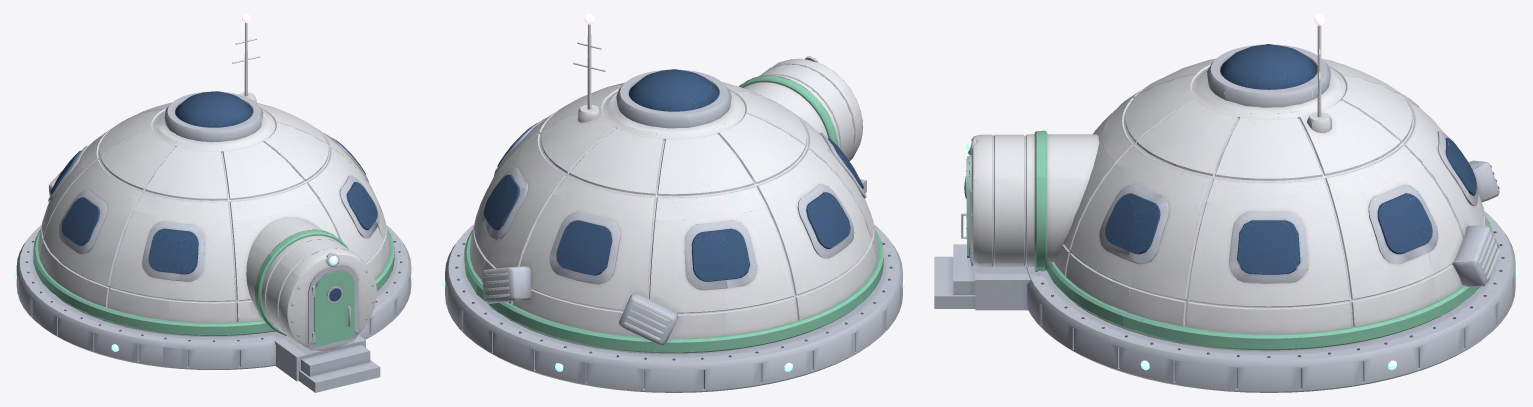
The model's file is cupula.glb.
3 renders of one model, left to right at view 1: azimuth 30°, elevation 25°; view 2: azimuth 150°, elevation 25°; view 3: azimuth 270°, elevation 25°, orthographic. The views are drawn at different scales.
Visible parts, largest first — view 1: habitat-dome_airlock_door; view 2: habitat-dome_airlock_door; view 3: habitat-dome_airlock_door.
Boxes of the visible parts, left/top/right/bottom form: habitat-dome_airlock_door: left=14, top=14, right=413, bottom=392; habitat-dome_airlock_door: left=442, top=14, right=905, bottom=392; habitat-dome_airlock_door: left=934, top=14, right=1518, bottom=392.
Bounding box in the file's own units: 7.8 × 5.35 × 9.24.
Materials: 4 (2 with a texture image).
